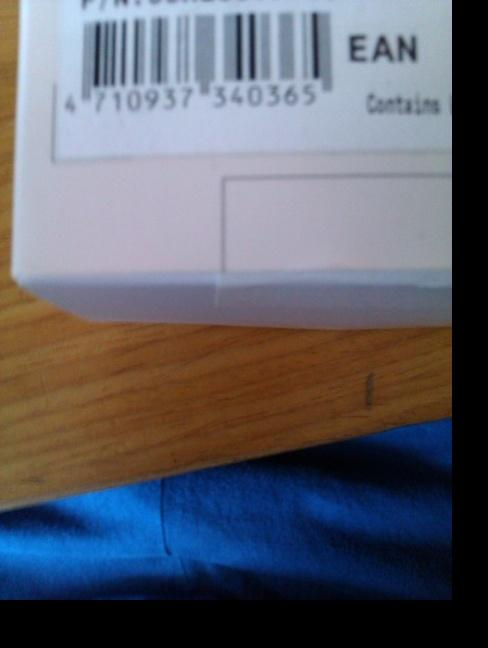Barcode: (60, 5, 347, 123)
